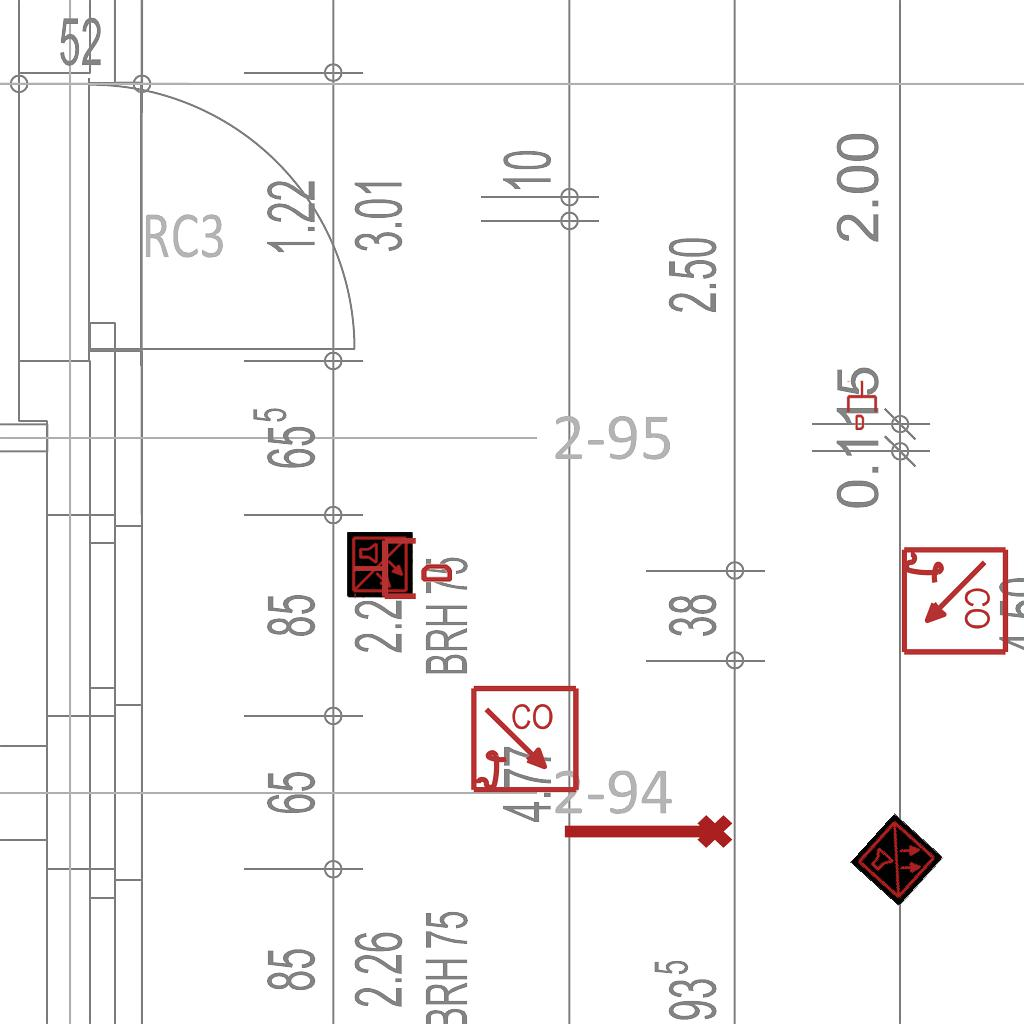ASR_Ansaugoeffnung: (559, 811, 735, 857)
Datenanschluss_einfach: (352, 534, 452, 603), (845, 380, 879, 430)
OKW_Multisensormelder_(Kombination_optischer_Rauch-Kahlenmonoxid_Waerme-Melder): (850, 813, 944, 907), (347, 532, 413, 598)
ROA_Rauchmelder_optisch_mit_Signalgeber_(Sockelsirene): (897, 545, 1010, 658), (469, 684, 582, 797)
